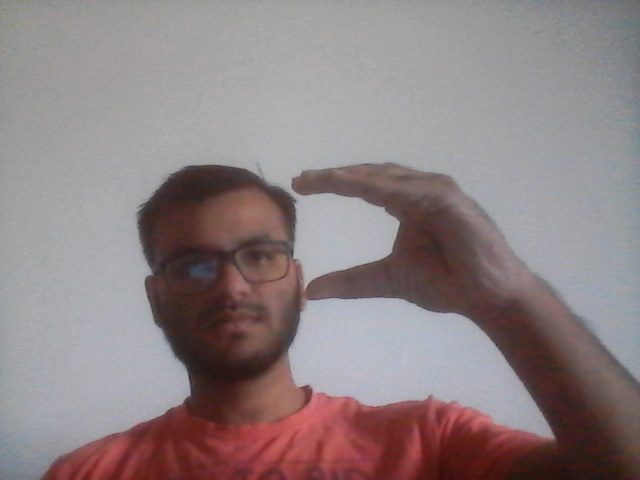No: (292, 162, 536, 316)
